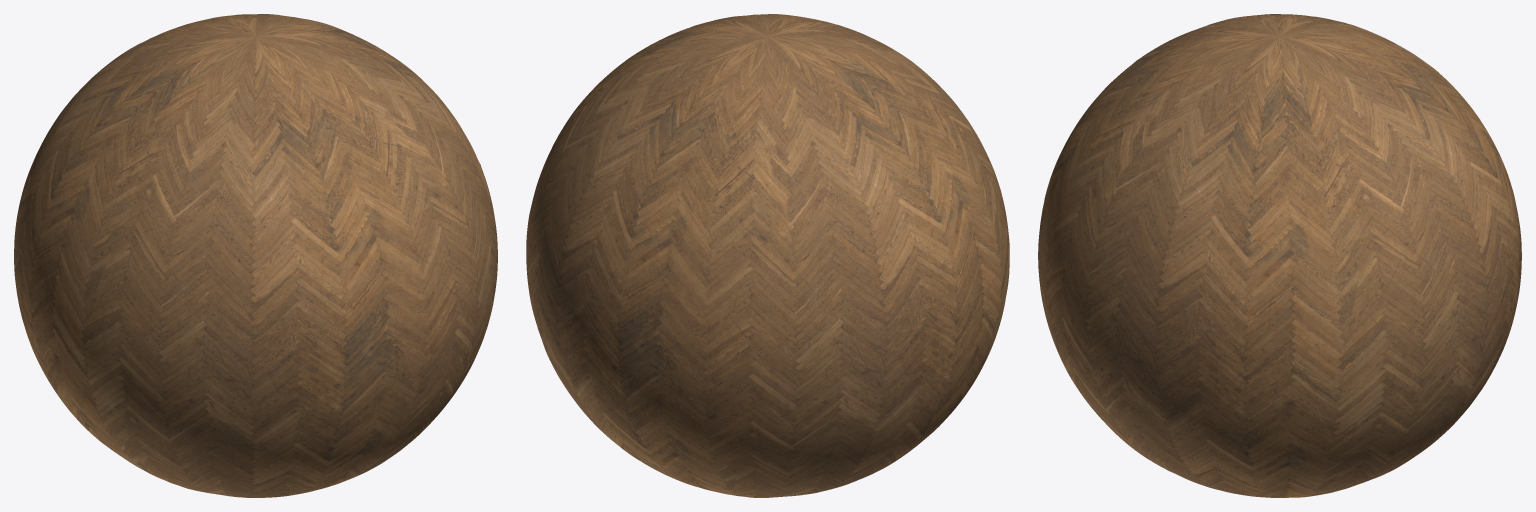
Rendered from herringbone_parquet_4k.gltf.
3 views of the same model, side by side, from view 1: azimuth 30°, elevation 25°; view 2: azimuth 150°, elevation 25°; view 3: azimuth 270°, elevation 25° (orthographic).
Visible parts, largest first — view 1: sphere_gltf; view 2: sphere_gltf; view 3: sphere_gltf.
Boxes of the visible parts, x1,y1,x2,y2 form: sphere_gltf: (14,14,497,497); sphere_gltf: (526,14,1009,497); sphere_gltf: (1038,14,1521,497).
Bounding box in the file's own units: 3.4 × 3.41 × 3.4.
1 material, 1 textured.
